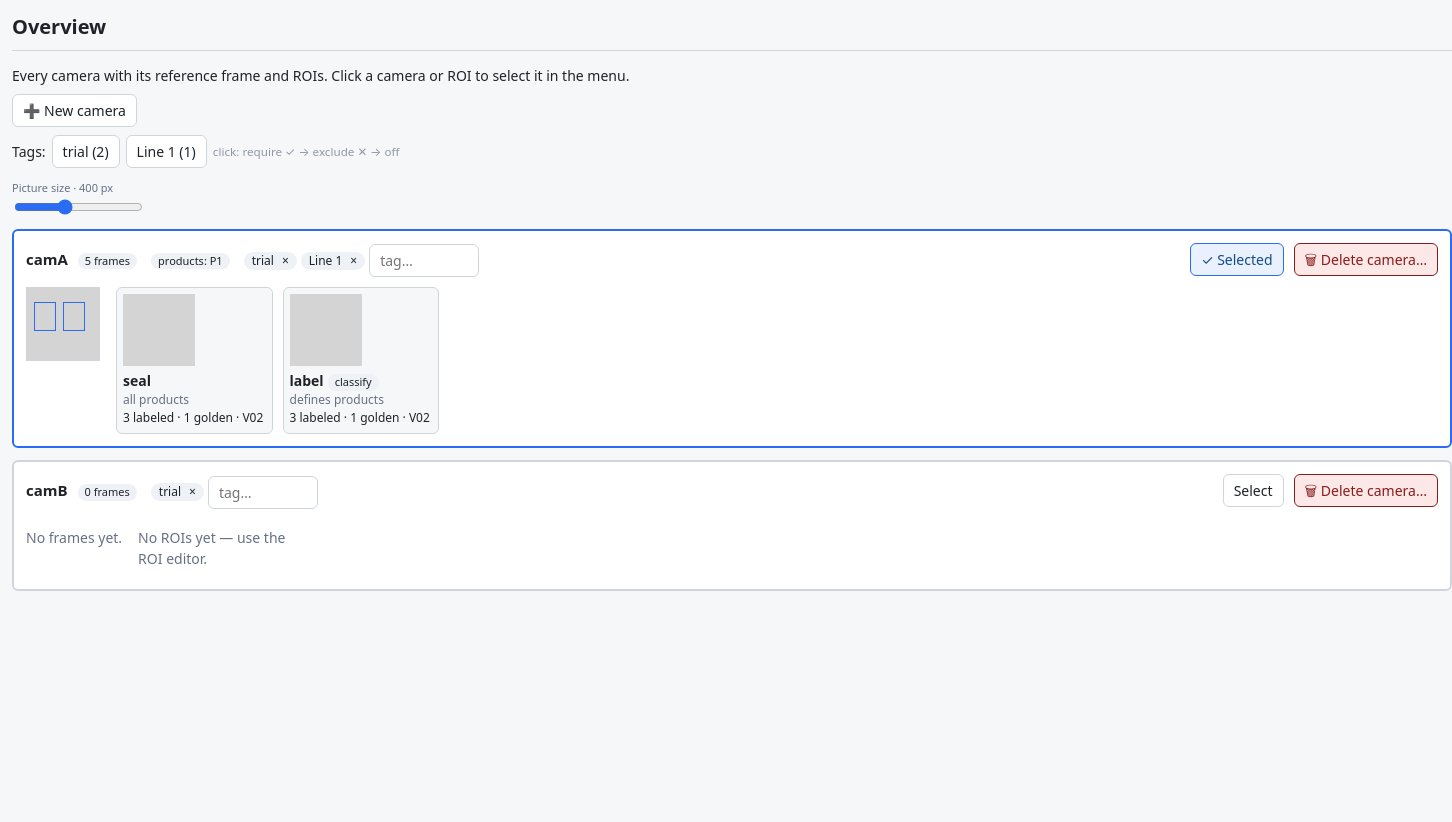
a tag chip can also exclude: off, require, exclude, off
The width and height of the screenshot is (1452, 822).
Expected: the element named "Camera camA" is shown, [12,228,1451,448]
Click the button "trial (2)".
click(86, 152)  # box [52,135,120,168]
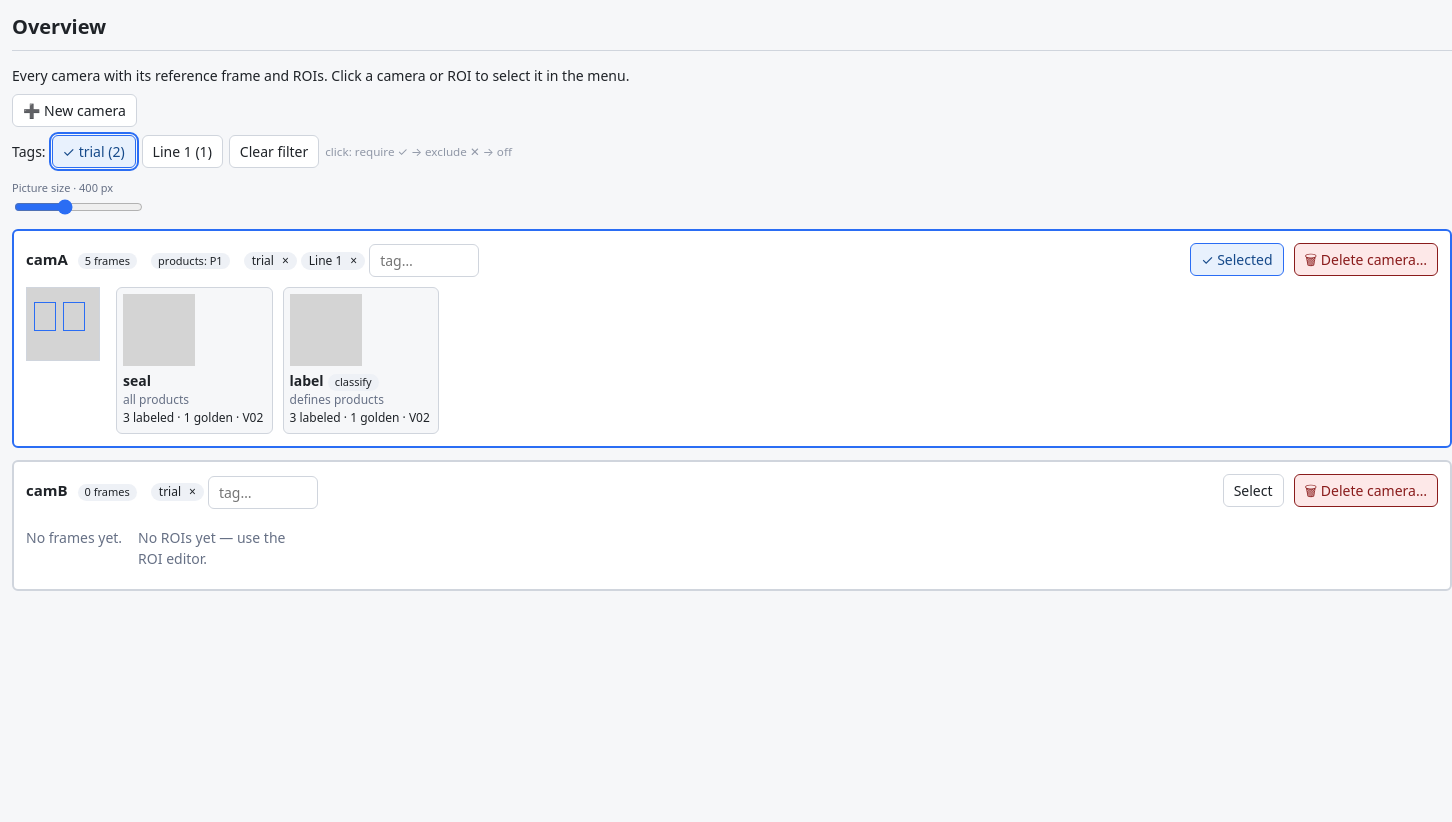
Expected: the element named "Camera camB" is shown, [12,460,1451,590]
Click the button "Line 1 (1)".
click(182, 152)  # box [142,135,223,168]
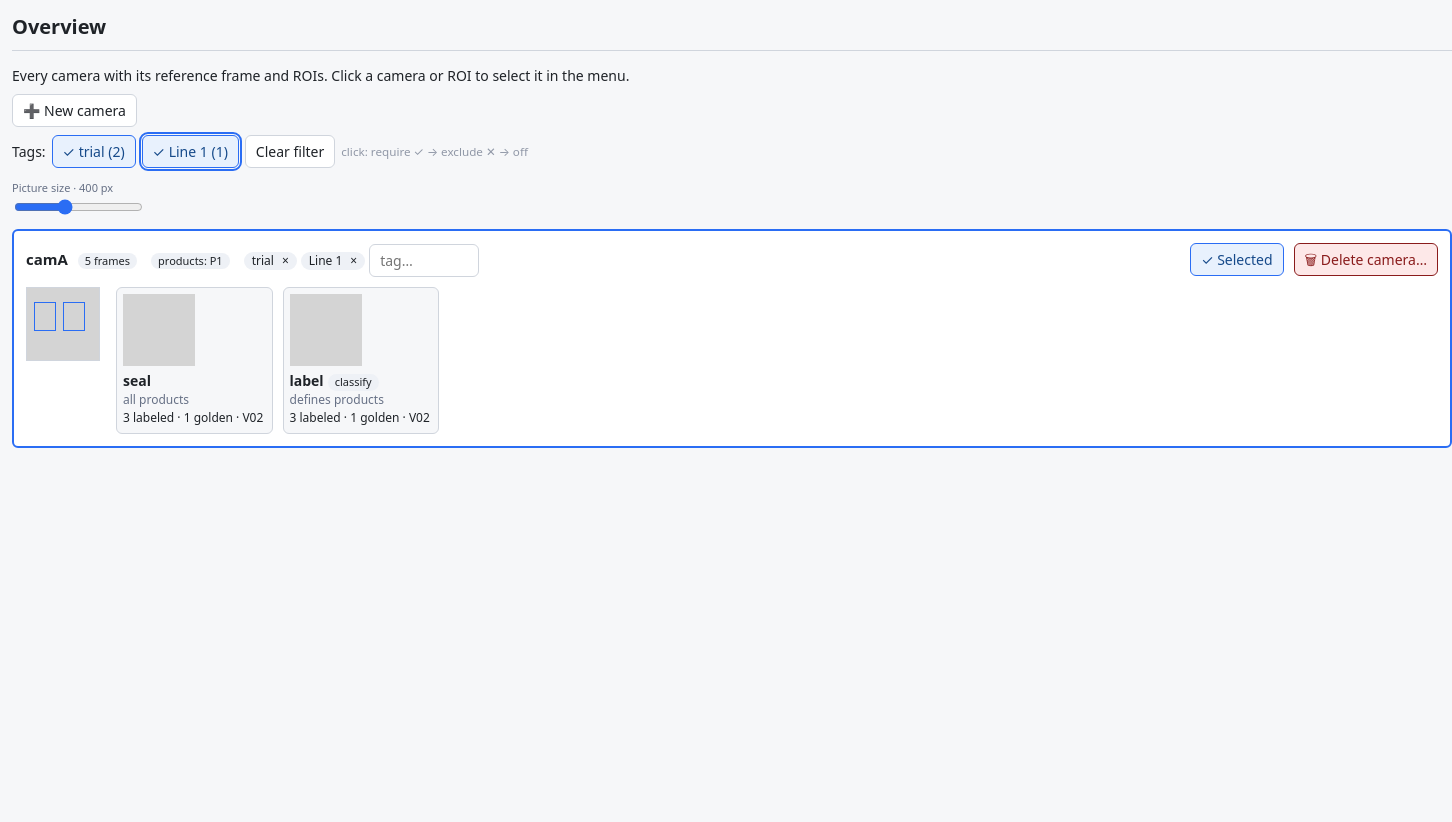
Click the button "✓ Line 1 (1)".
click(190, 152)  # box [142,135,239,168]
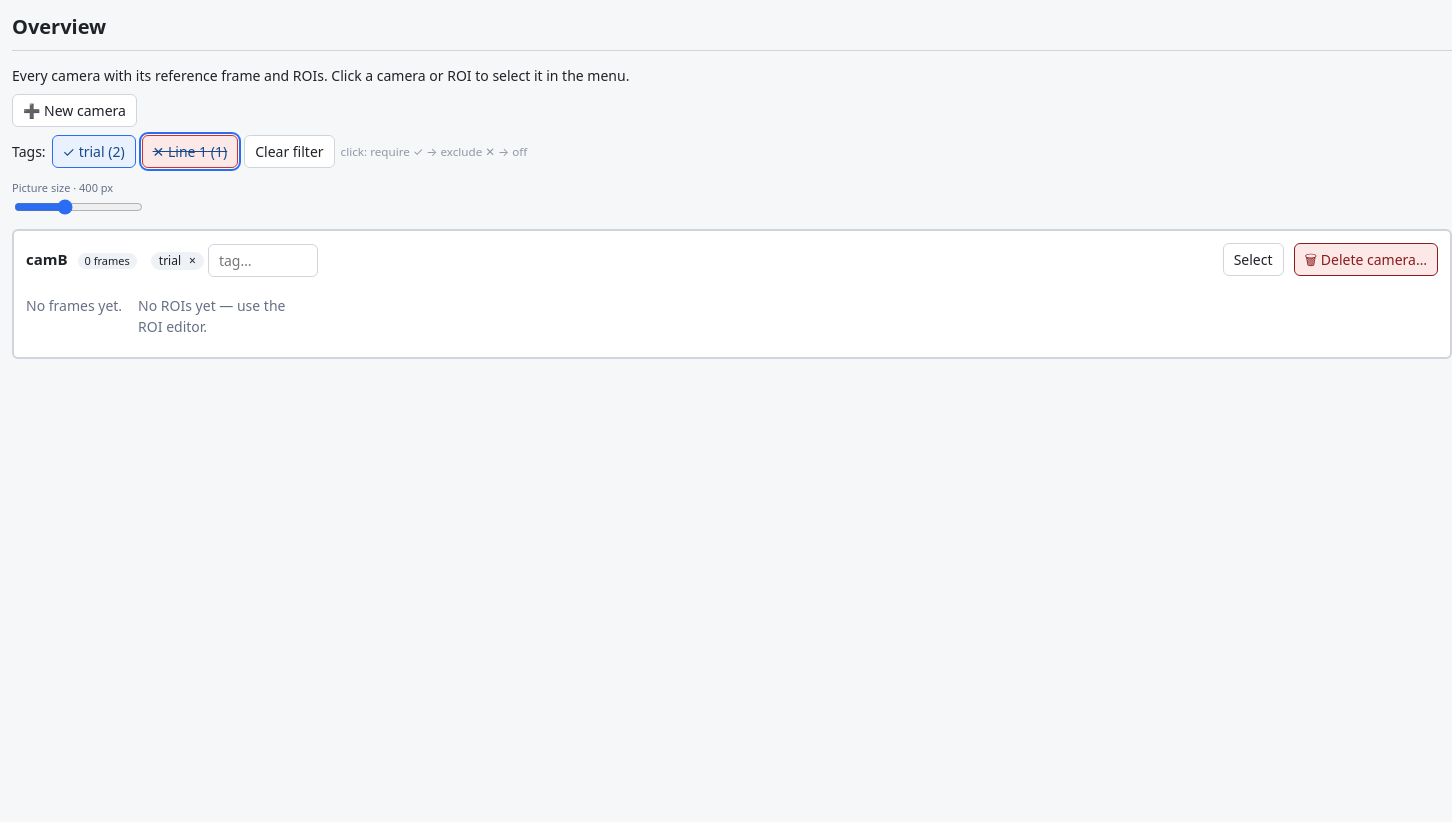
Now the element named "Camera camB" is shown, box [12,228,1451,359]
Click the button with aria-label "not Line 1 (1)".
click(190, 152)  # box [142,135,238,168]
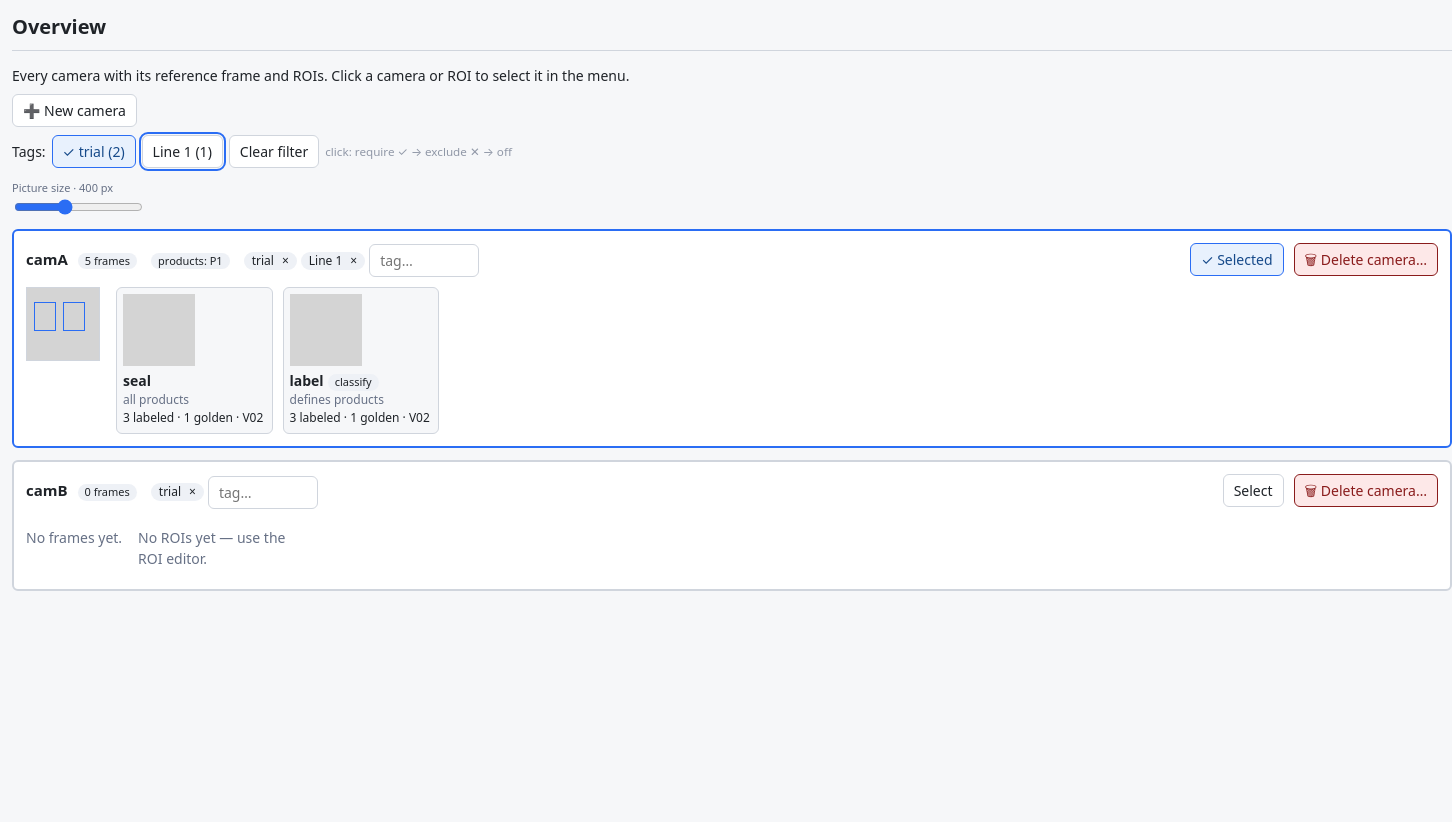
Now the element named "Camera camA" is shown, box [12,228,1451,448]
